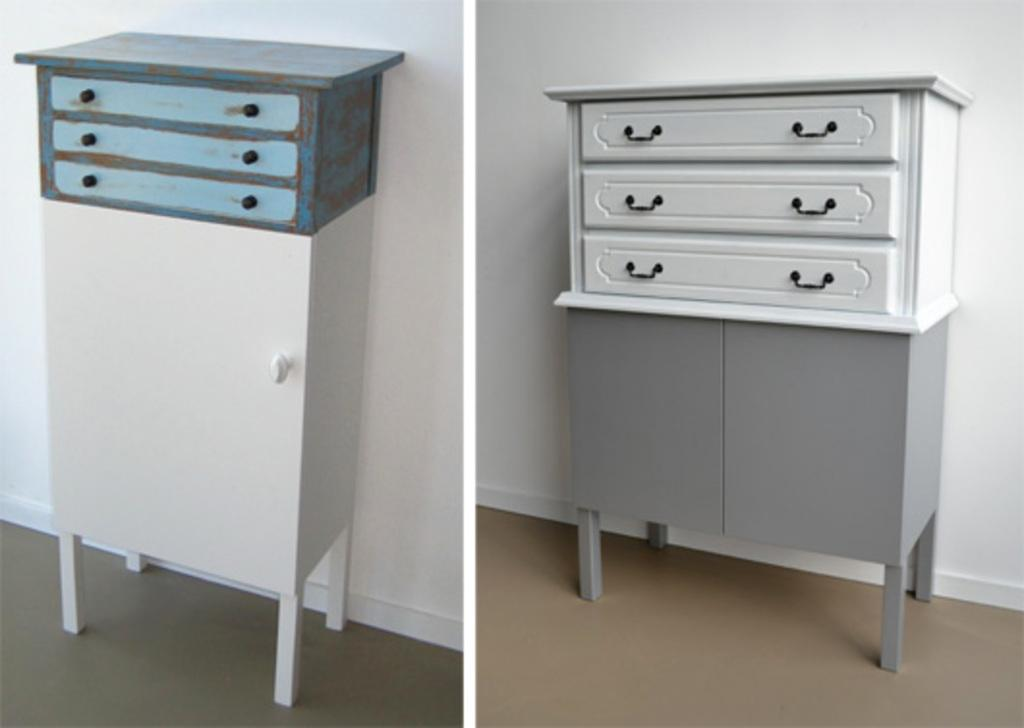cabinet_door: (46, 198, 296, 558), (729, 332, 897, 550), (575, 312, 727, 516), (594, 233, 888, 310), (593, 174, 884, 235), (66, 78, 284, 138), (72, 160, 278, 222), (611, 116, 879, 158), (68, 122, 278, 173)
handle: (782, 194, 834, 224), (790, 118, 848, 144), (786, 274, 834, 295), (622, 261, 668, 282), (273, 352, 297, 386), (620, 123, 658, 144), (231, 187, 259, 211), (621, 199, 659, 216), (236, 151, 264, 173), (235, 100, 259, 124), (76, 126, 98, 148), (77, 171, 100, 191), (78, 78, 94, 104)
